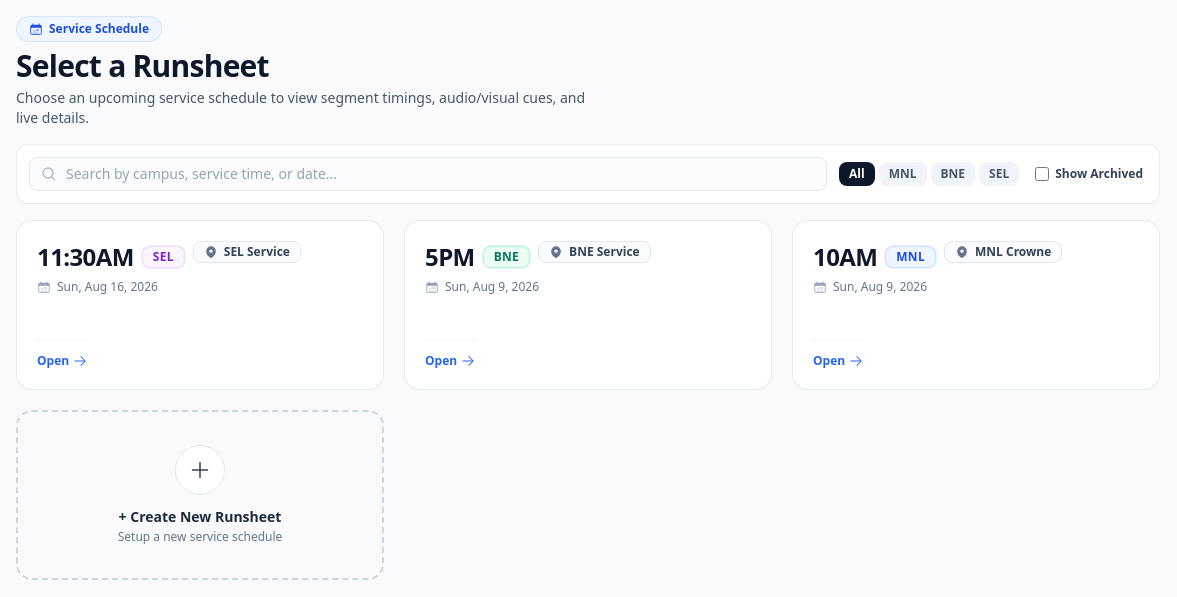
Test case: RunsheetLandingView › filters runsheet cards by search text
Type "BNE" into the field with placeholder "Search by campus, service time, or date..." at (428, 174), box left=29, top=157, right=827, bottom=191
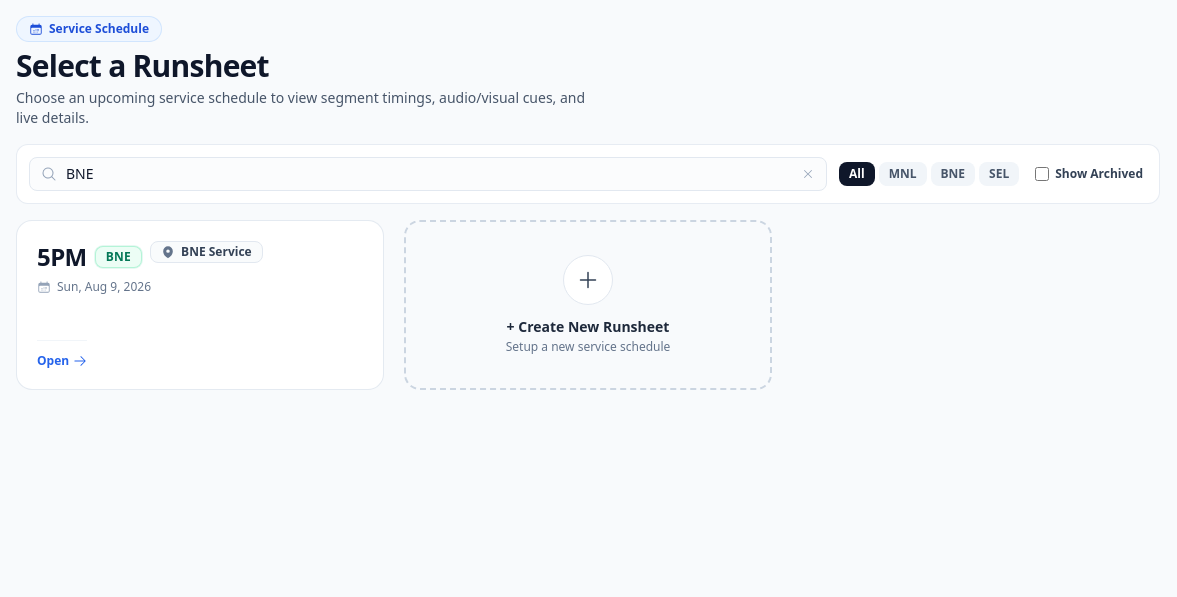
expect the button with test id "runsheet-card-102" is shown: met, box left=16, top=220, right=384, bottom=390
expect the button with test id "runsheet-card-101" is gone: met
expect the button with test id "runsheet-card-103" is gone: met
